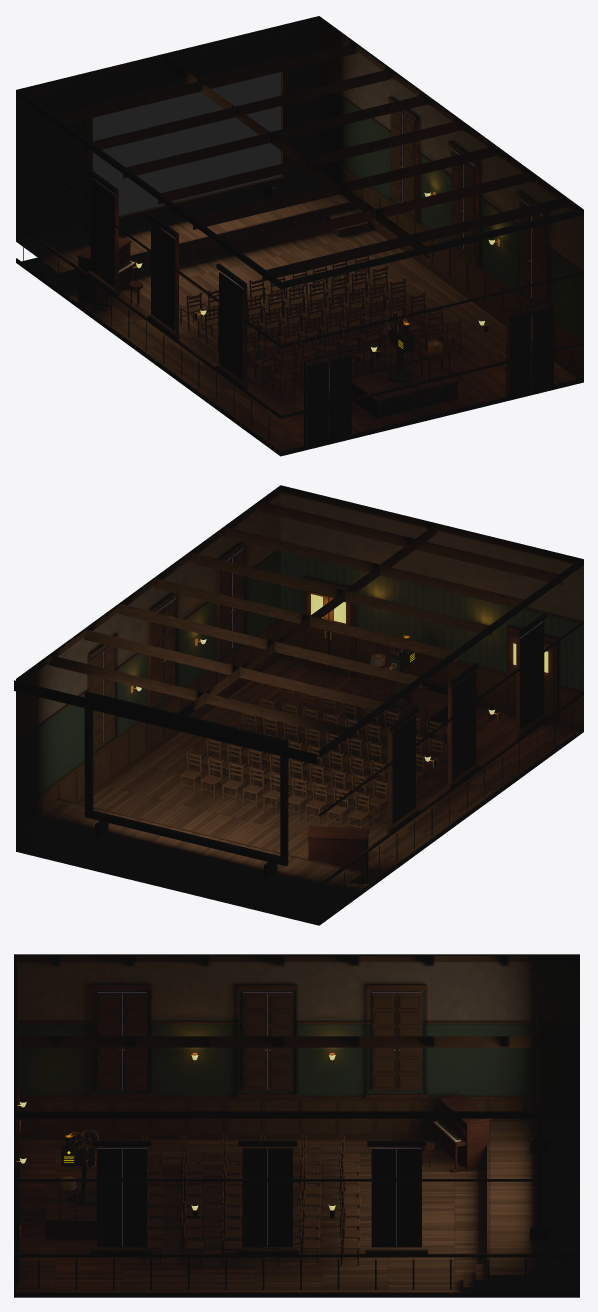
File: projector-room.glb
3 views of the same model, one above another, from view 1: azimuth 30°, elevation 25°; view 2: azimuth 150°, elevation 25°; view 3: azimuth 270°, elevation 25° (orthographic). The views are drawn at different scales.
Parts seen in each view (by area): view 1: Room, Chairs, Screen, Props; view 2: Room, Chairs, Props; view 3: Room, Chairs, Props.
Part boxes in pixels (<box>): Room: <box>16,16,583,456</box>; Chairs: <box>179,255,461,397</box>; Screen: <box>93,72,281,215</box>; Props: <box>76,237,457,418</box>; Room: <box>14,485,583,925</box>; Chairs: <box>179,687,451,829</box>; Props: <box>307,635,451,883</box>; Room: <box>14,954,579,1297</box>; Chairs: <box>142,1135,360,1265</box>; Props: <box>45,1094,491,1239</box>.
Size of the model in its own units: 9 by 4.9 by 13.7.
5 materials, 4 textured.
